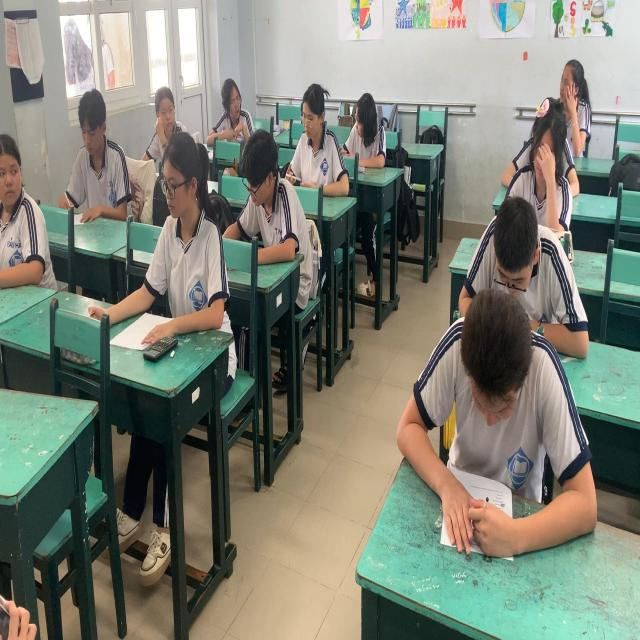cheating: (343, 73, 390, 181), (211, 80, 255, 149)
not_cheating: (425, 294, 556, 506), (161, 129, 231, 336), (0, 128, 59, 328), (66, 77, 137, 218), (240, 126, 296, 266), (479, 211, 538, 326), (546, 63, 598, 181), (522, 128, 569, 257), (287, 70, 328, 191), (142, 70, 188, 146)
